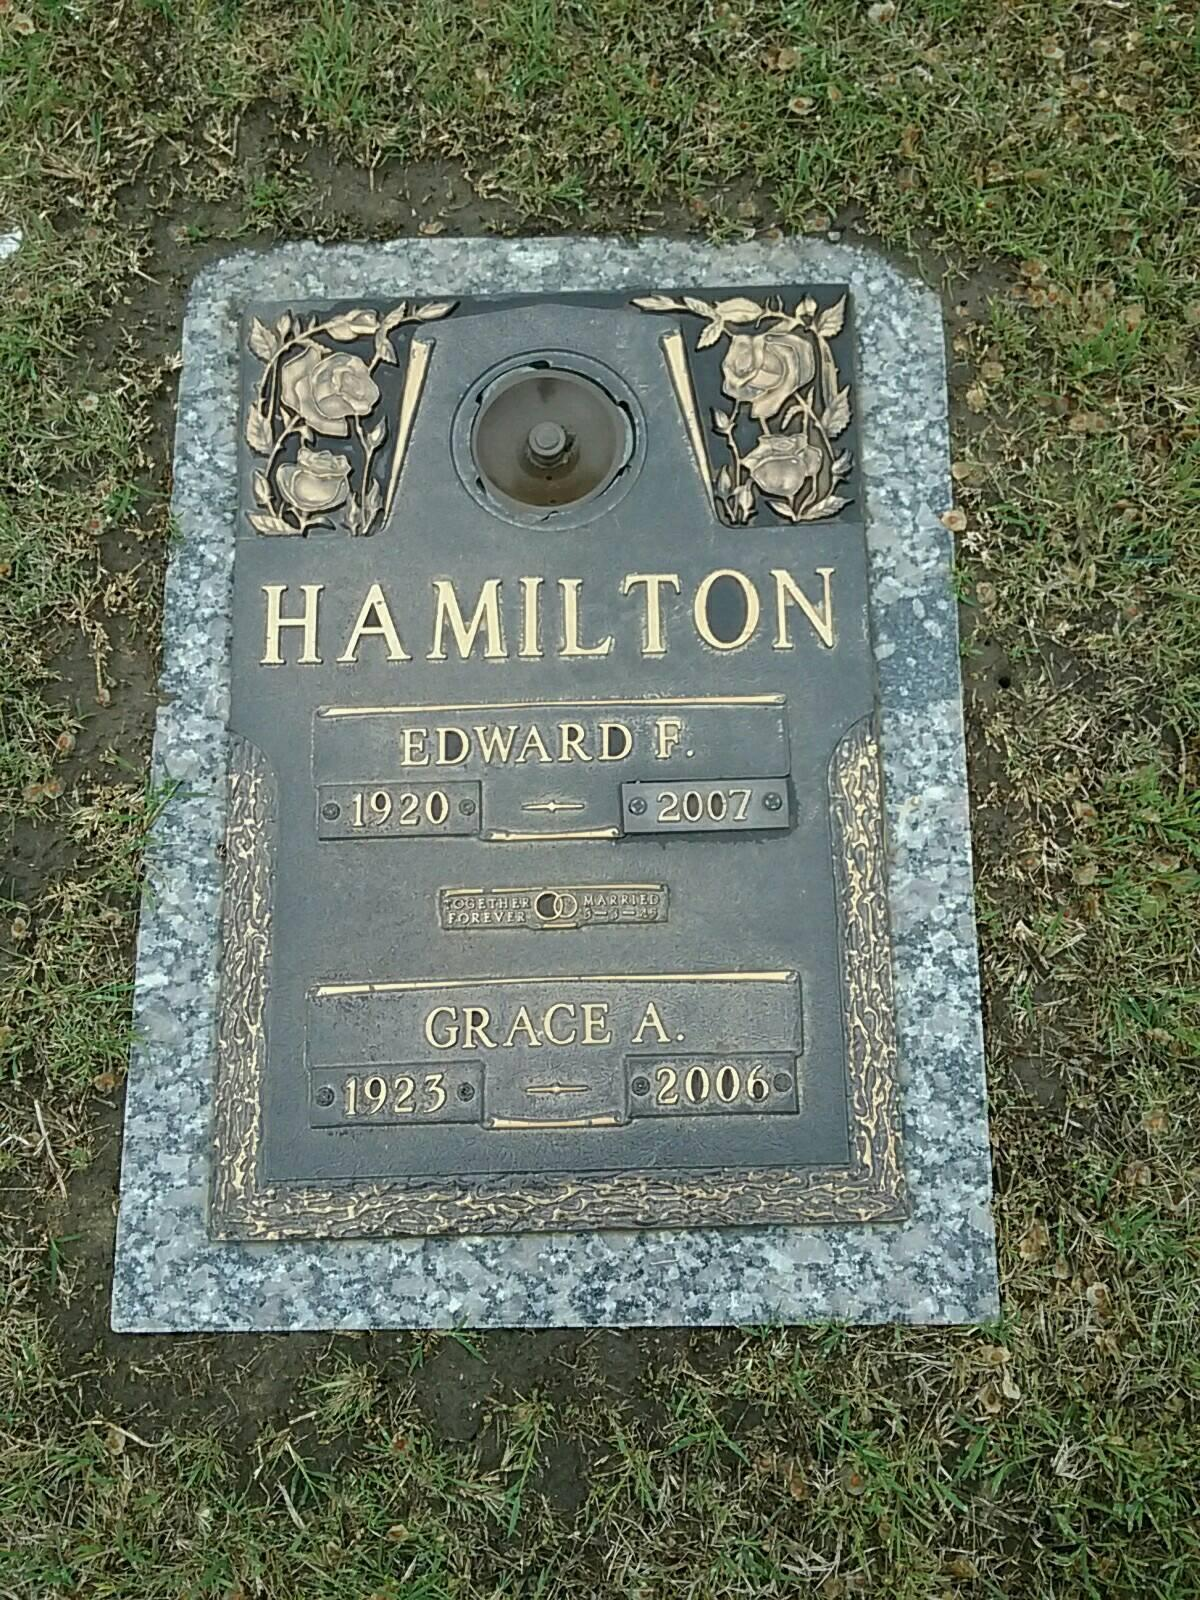flat: (107, 232, 1005, 1343)
